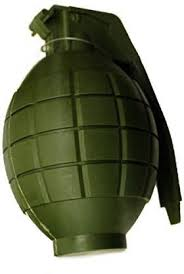bomb: (6, 4, 184, 258)
